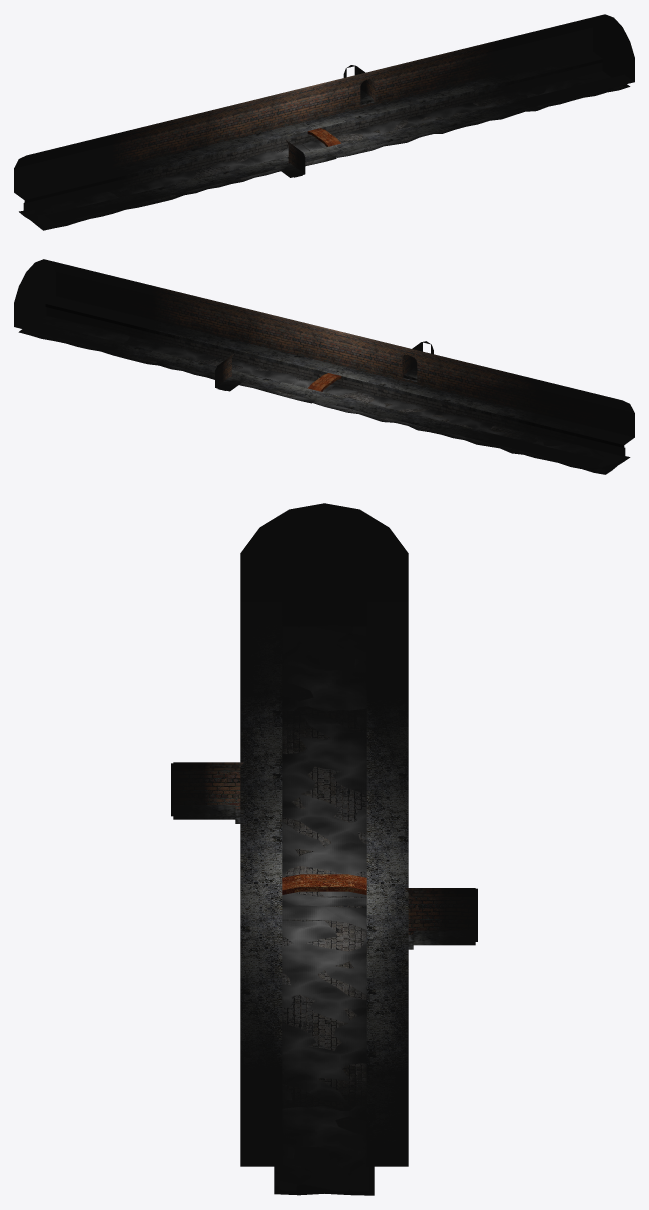
File: sewer.glb
3 renders of one model, top to bottom at view 1: azimuth 30°, elevation 25°; view 2: azimuth 150°, elevation 25°; view 3: azimuth 270°, elevation 25°, orthographic. The views are drawn at different scales.
Parts seen in each view (by area): view 1: tunnel right, tunnel left, sewer juice left, sewer juice left.002; view 2: tunnel right, tunnel left, sewer juice left, sewer juice left.002; view 3: tunnel left, tunnel right, sewer juice left.002, sewer juice left.
Part boxes in pixels (x1,y1,x2,y2): tunnel right: (303,14,634,157); tunnel left: (14,85,344,228); sewer juice left: (19,140,336,230); sewer juice left.002: (315,74,630,157); tunnel right: (14,259,345,399); tunnel left: (304,330,634,472); sewer juice left: (312,386,630,474); sewer juice left.002: (18,315,334,403); tunnel left: (171,503,408,907); tunnel right: (240,880,477,1191); sewer juice left.002: (274,905,374,1195); sewer juice left: (282,625,366,906).
Bounding box in the file's own units: 54.79 × 5.59 × 12.4.
Materials: 5 (5 with a texture image).
